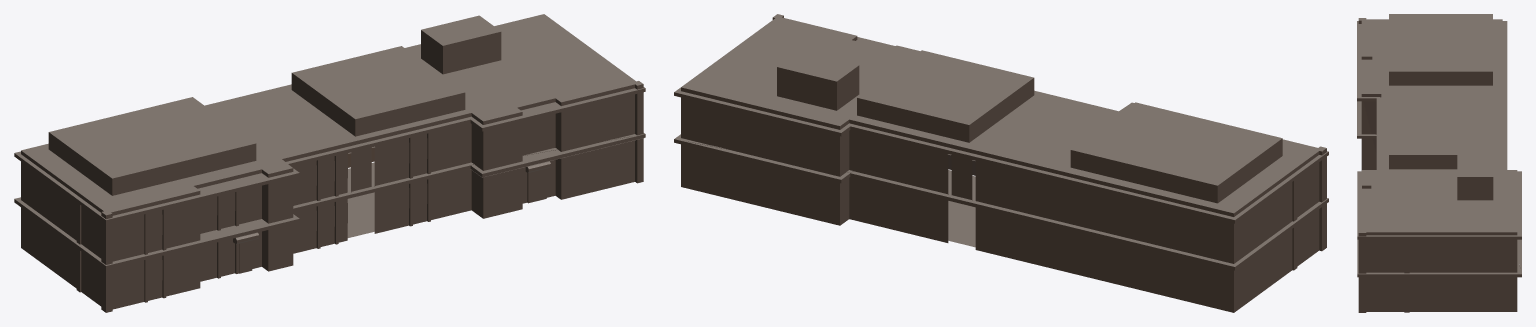
The model's file is ind-warehouse-4.far-facades-v3.lod2.glb.
3 views of the same model, side by side, from view 1: azimuth 30°, elevation 25°; view 2: azimuth 150°, elevation 25°; view 3: azimuth 270°, elevation 25° (orthographic). The views are drawn at different scales.
Parts seen in each view (by area): view 1: ind-warehouse-4; view 2: ind-warehouse-4; view 3: ind-warehouse-4.
Boxes of the visible parts, bbox=[...] form: ind-warehouse-4: bbox=[14, 14, 645, 312]; ind-warehouse-4: bbox=[674, 14, 1328, 312]; ind-warehouse-4: bbox=[1357, 14, 1521, 312].
Bounding box in the file's own units: 42.08 × 9.38 × 13.59.
